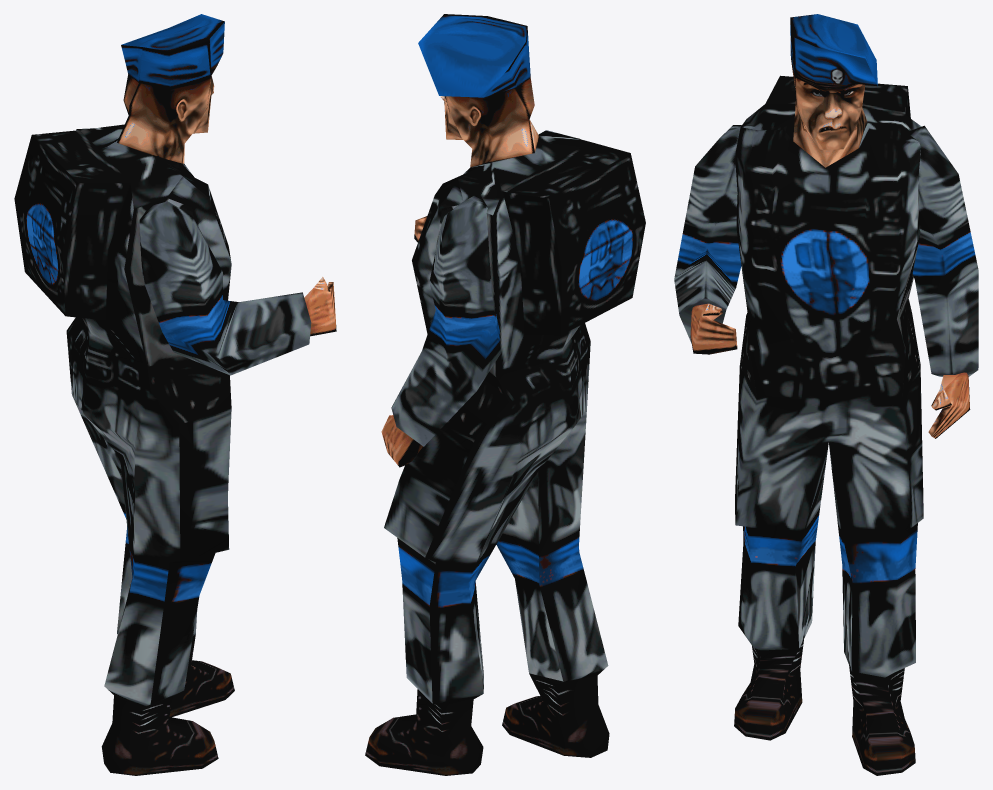
The model's file is soldier2_blue.glb.
The picture shows the model from 3 angles, left to right: view 1: azimuth 30°, elevation 25°; view 2: azimuth 150°, elevation 25°; view 3: azimuth 270°, elevation 25°; orthographic projection. The views are drawn at different scales.
Parts seen in each view (by area): view 1: soldier2; view 2: soldier2; view 3: soldier2.
Boxes of the visible parts, box(x1,y1,x2,y2) form: soldier2: box(14, 14, 336, 775); soldier2: box(365, 14, 645, 775); soldier2: box(674, 14, 978, 775).
Size of the model in its own units: 27.85 by 75.13 by 29.19.
Materials: 1 (1 with a texture image).
